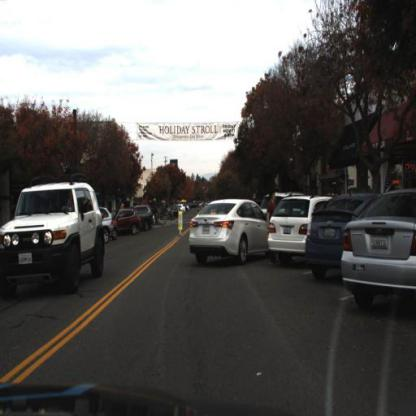car: (1, 171, 107, 296), (342, 187, 416, 311), (303, 185, 376, 288), (306, 189, 371, 278), (189, 200, 273, 263), (267, 194, 336, 256), (268, 193, 327, 265), (97, 203, 115, 245), (114, 210, 141, 237), (136, 205, 154, 232)
pedestrian: (265, 189, 282, 268), (7, 205, 16, 234)
